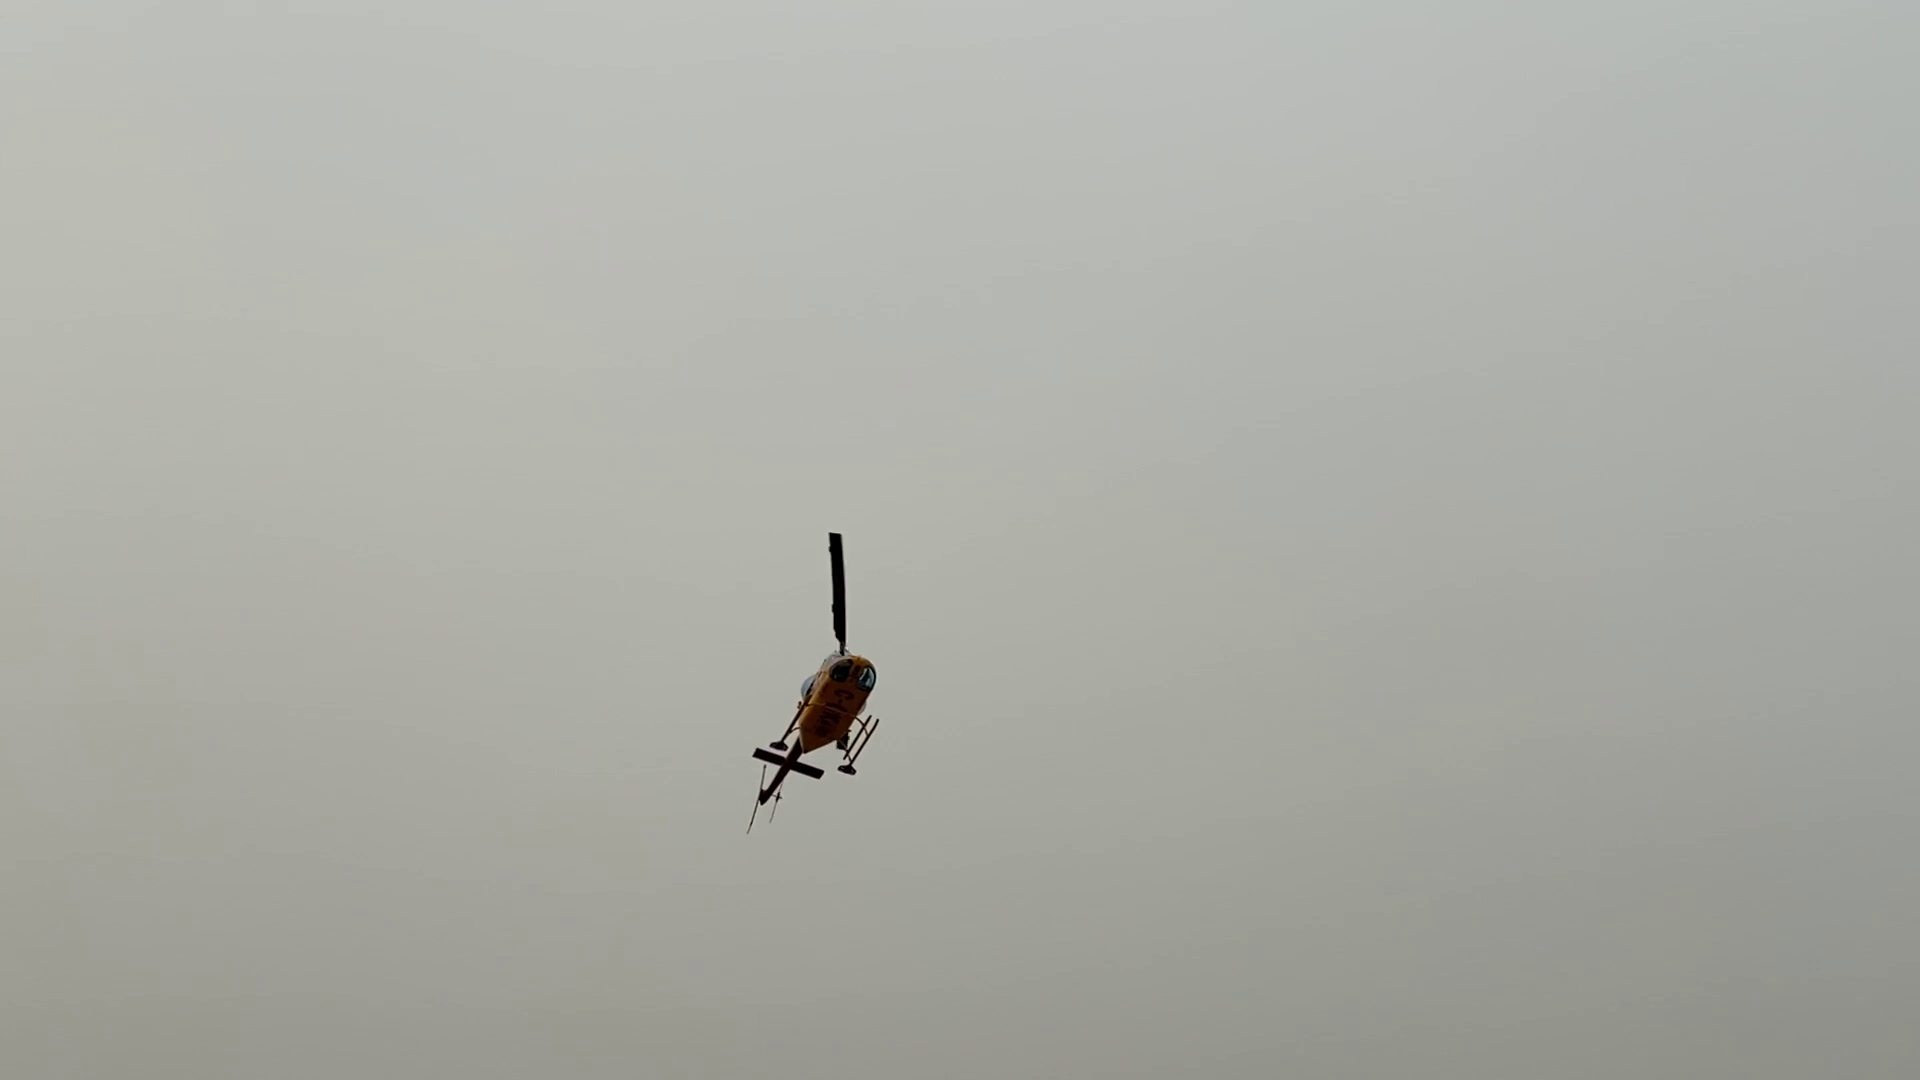heli: (742, 531, 895, 807)
